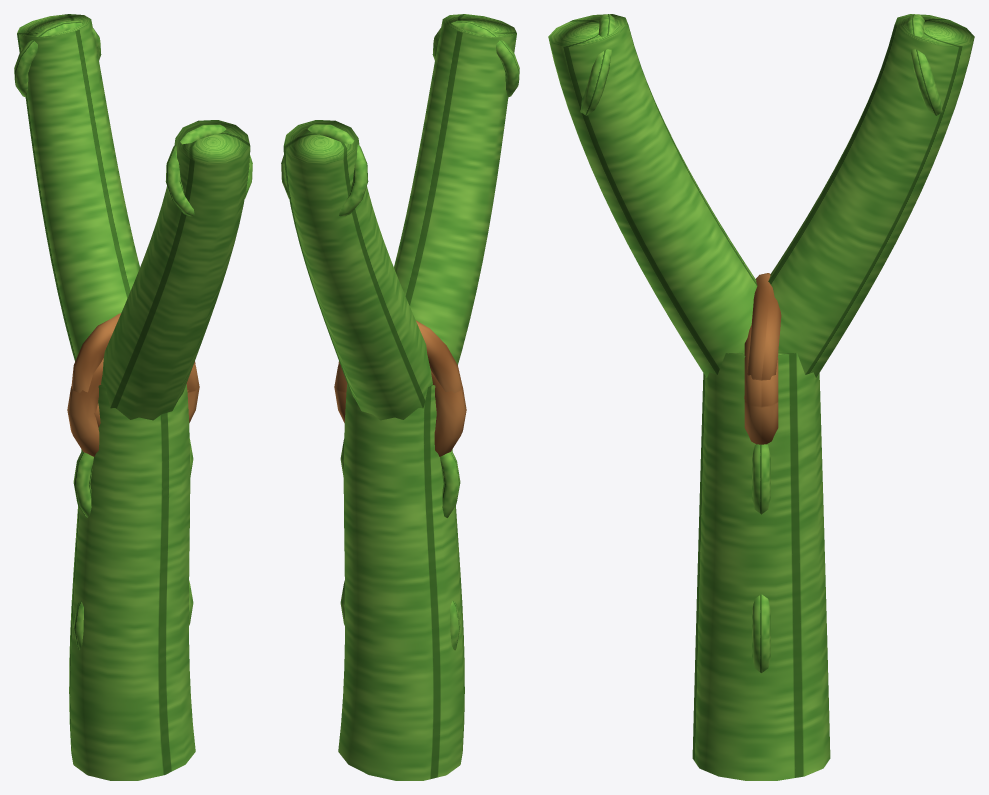
File: prop_slingshot_bamboo.obj
The picture shows the model from 3 angles, left to right: view 1: azimuth 30°, elevation 25°; view 2: azimuth 150°, elevation 25°; view 3: azimuth 270°, elevation 25°; orthographic projection. The views are drawn at different scales.
Visible parts, largest first — view 1: slingshot_bamboo_body, slingshot_rope_wrap; view 2: slingshot_bamboo_body, slingshot_rope_wrap; view 3: slingshot_bamboo_body, slingshot_rope_wrap.
Boxes of the visible parts, bbox=[...] form: slingshot_bamboo_body: bbox=[14, 14, 252, 780]; slingshot_rope_wrap: bbox=[67, 313, 199, 456]; slingshot_bamboo_body: bbox=[281, 14, 519, 780]; slingshot_rope_wrap: bbox=[334, 320, 466, 456]; slingshot_bamboo_body: bbox=[548, 14, 974, 780]; slingshot_rope_wrap: bbox=[744, 273, 781, 444].
Size of the model in its own units: 0.41 by 2.09 by 1.08.
Materials: 2 (2 with a texture image).
